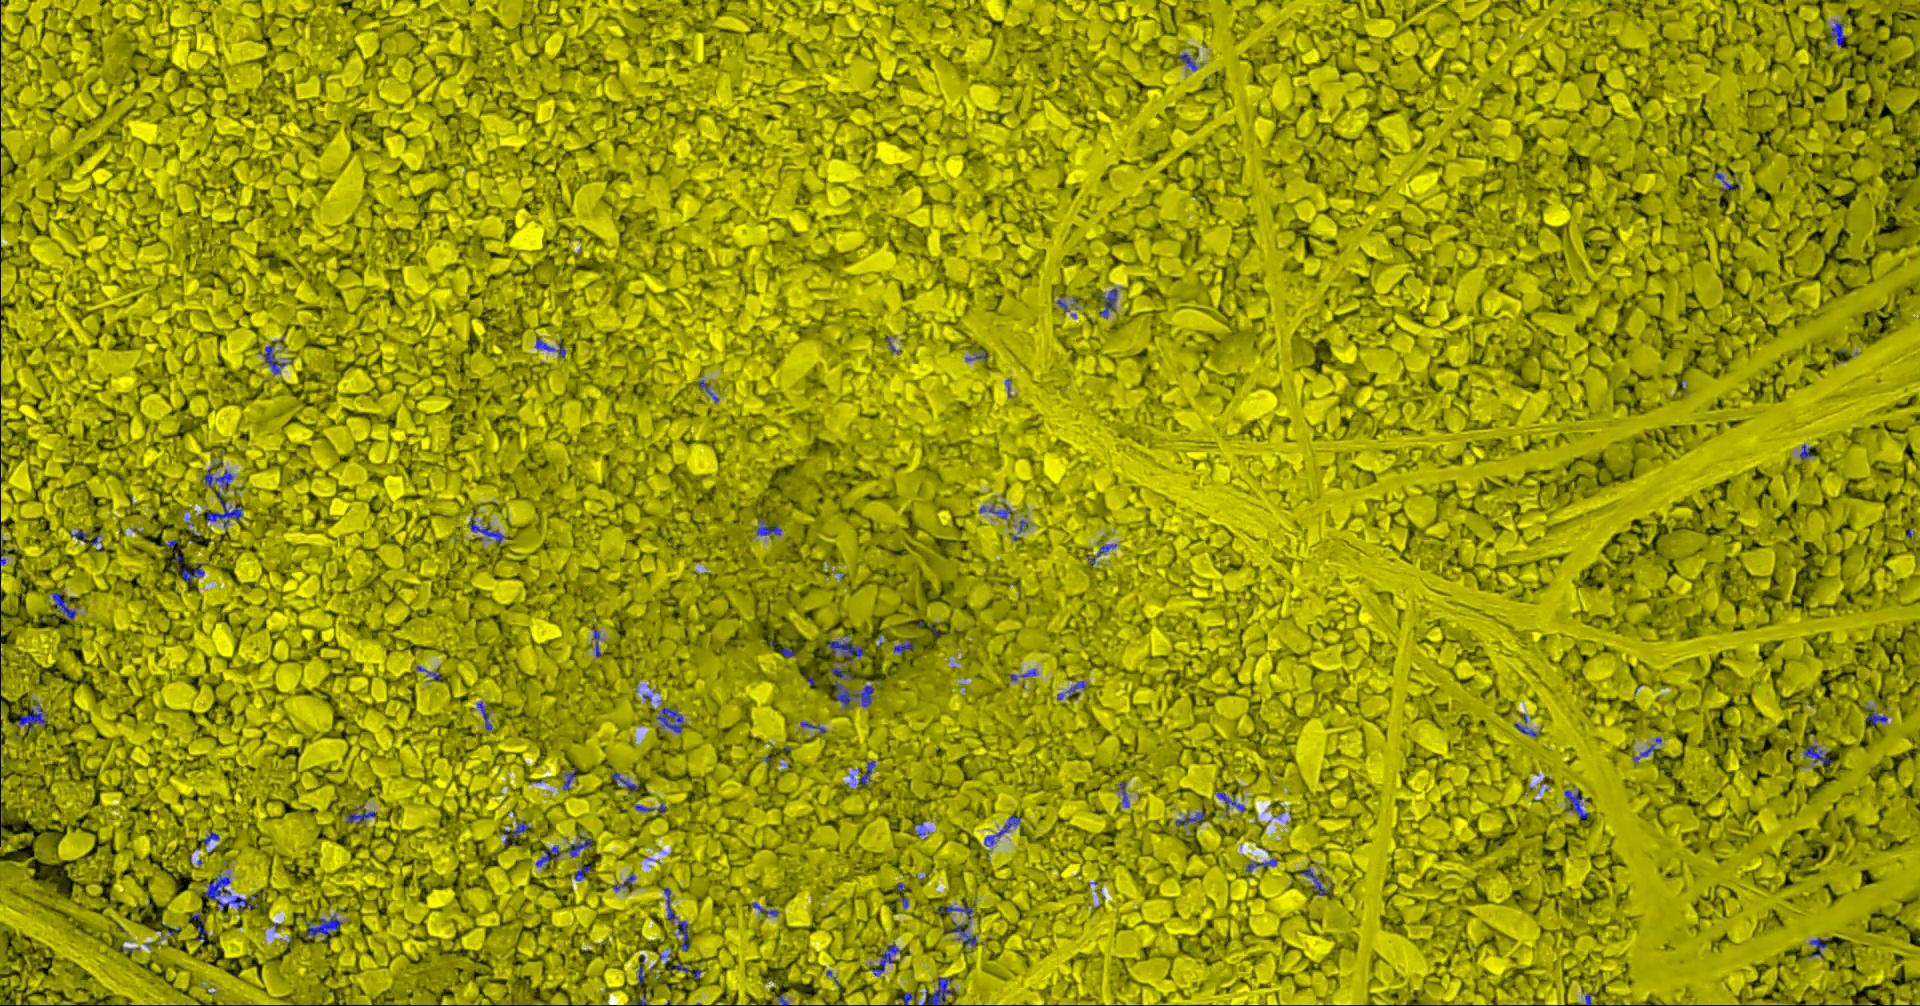ant: (201, 873, 257, 909), (204, 490, 243, 527), (983, 815, 1020, 846), (259, 340, 291, 373), (869, 942, 900, 976), (833, 681, 872, 706), (919, 976, 952, 1005), (467, 517, 504, 542), (303, 915, 342, 939), (1302, 868, 1330, 895), (827, 640, 863, 661), (18, 702, 47, 728), (655, 708, 683, 733), (1564, 789, 1589, 818), (51, 591, 75, 619), (502, 821, 528, 845), (1803, 741, 1831, 763), (1217, 791, 1244, 814), (949, 923, 977, 946), (203, 467, 232, 489), (1087, 542, 1116, 564), (1098, 287, 1117, 318), (535, 338, 565, 357), (1512, 713, 1537, 735), (568, 835, 592, 857), (937, 904, 973, 920), (856, 760, 875, 788), (979, 503, 1011, 520), (535, 845, 559, 866), (610, 772, 637, 790), (1827, 22, 1846, 47), (345, 805, 375, 822), (697, 379, 717, 401), (1244, 857, 1277, 871), (662, 887, 676, 920), (476, 701, 491, 730), (1175, 810, 1204, 826), (1632, 743, 1655, 762), (1713, 171, 1735, 191), (178, 567, 204, 582), (750, 902, 778, 916), (756, 520, 781, 535), (676, 920, 688, 950), (611, 874, 634, 890), (192, 913, 204, 942), (1177, 52, 1197, 70), (1865, 708, 1887, 724), (830, 667, 858, 680), (1810, 937, 1827, 956), (563, 767, 577, 790), (1065, 680, 1086, 695), (1010, 668, 1036, 680), (800, 721, 825, 733), (573, 865, 590, 880), (590, 627, 599, 657), (893, 639, 913, 652), (1117, 781, 1128, 807), (634, 803, 665, 810), (202, 831, 218, 843), (1799, 445, 1813, 459), (637, 954, 644, 982)
